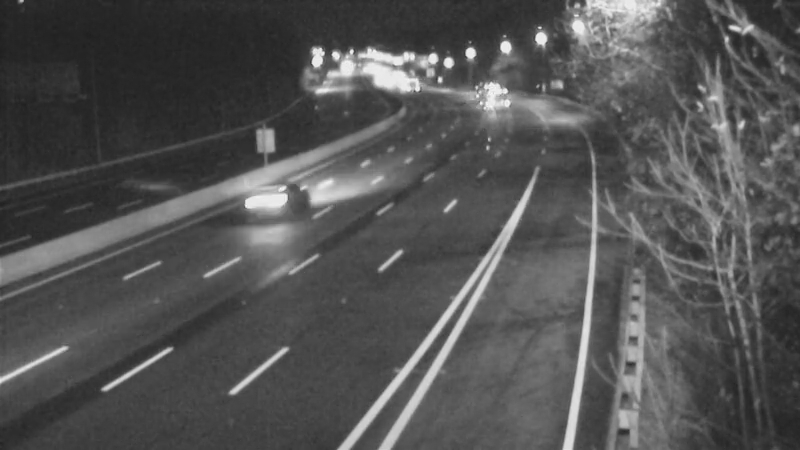vehicle: (220, 163, 300, 243), (455, 59, 505, 109), (386, 57, 436, 107), (473, 77, 523, 127)
